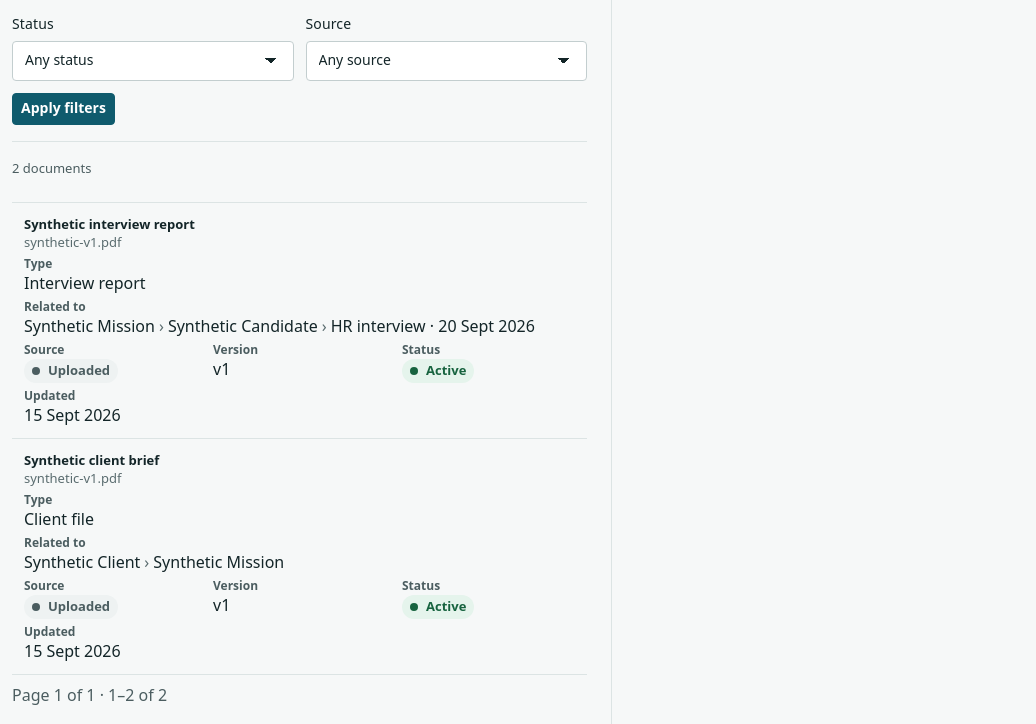
Test case: DocumentsPanel permissions › presents a view-only account without write, download, archive, or context controls
The width and height of the screenshot is (1036, 724).
(page scrolled)
Click the button "Synthetic client brief". click: click(92, 460)
box: [24,451,159,469]
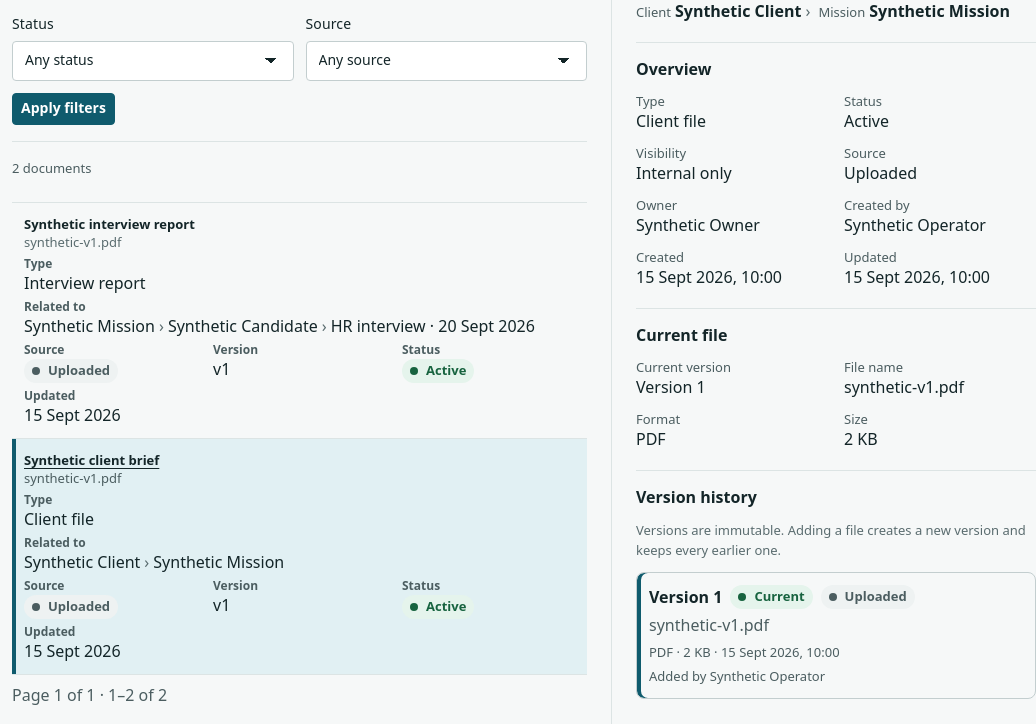
Result: the text "Synthetic Owner" is shown at [636,214,760,236]
